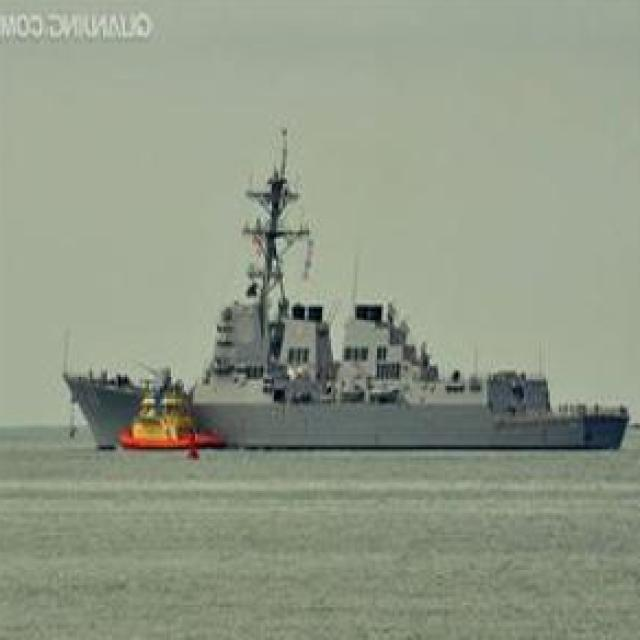navalvessels: (70, 182, 640, 454), (120, 356, 206, 438)
